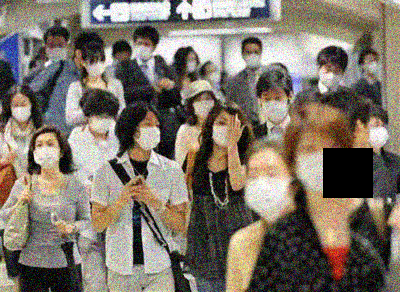with_mask: (295, 135, 348, 192), (244, 165, 292, 220), (259, 90, 291, 123), (133, 116, 162, 151), (33, 137, 62, 171), (211, 116, 240, 148), (365, 118, 389, 148), (318, 63, 345, 88), (192, 95, 216, 118), (89, 112, 113, 134), (10, 100, 32, 123), (46, 40, 69, 62), (85, 55, 108, 76), (133, 39, 154, 61), (244, 47, 262, 69), (366, 55, 379, 75), (207, 66, 220, 84), (186, 56, 198, 72)
